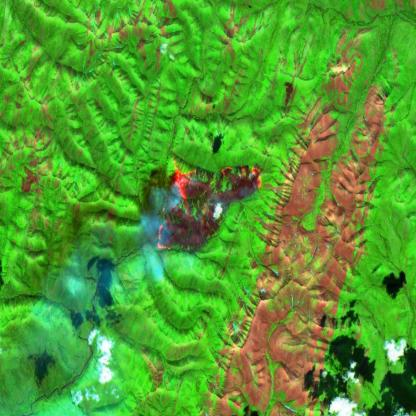fire: (153, 162, 264, 254)
